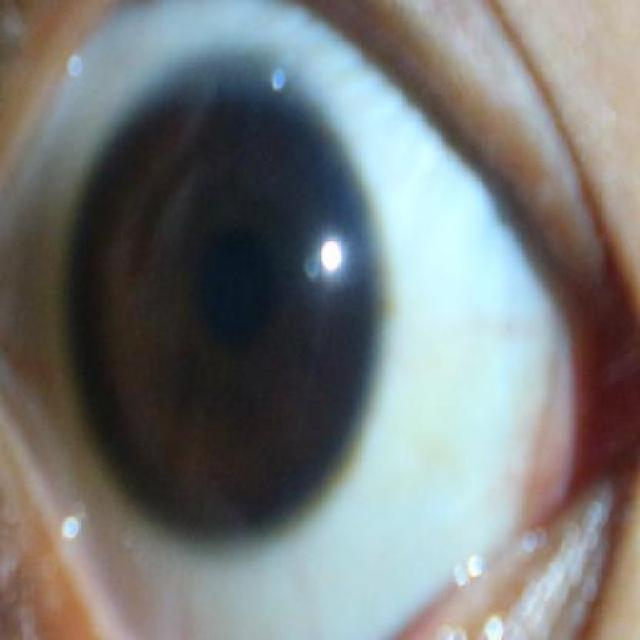Normal: (62, 73, 385, 545)
